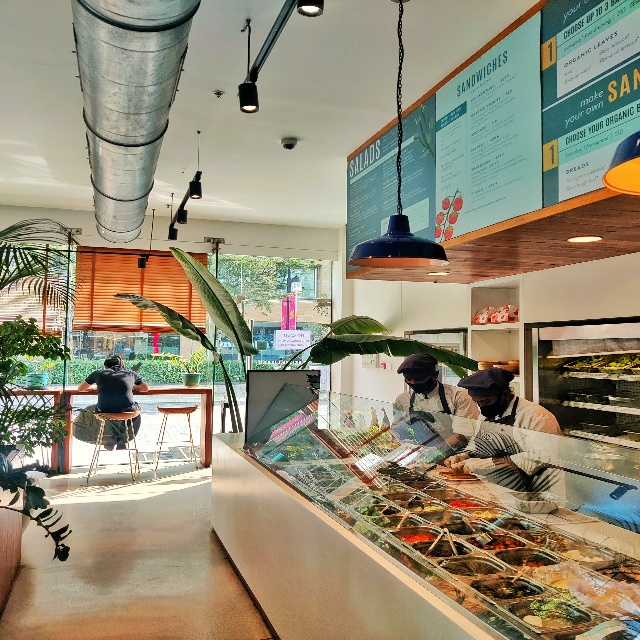Guantes: (451, 458, 494, 476), (443, 453, 468, 469)
Mascara: (476, 393, 507, 419), (404, 370, 435, 395)
